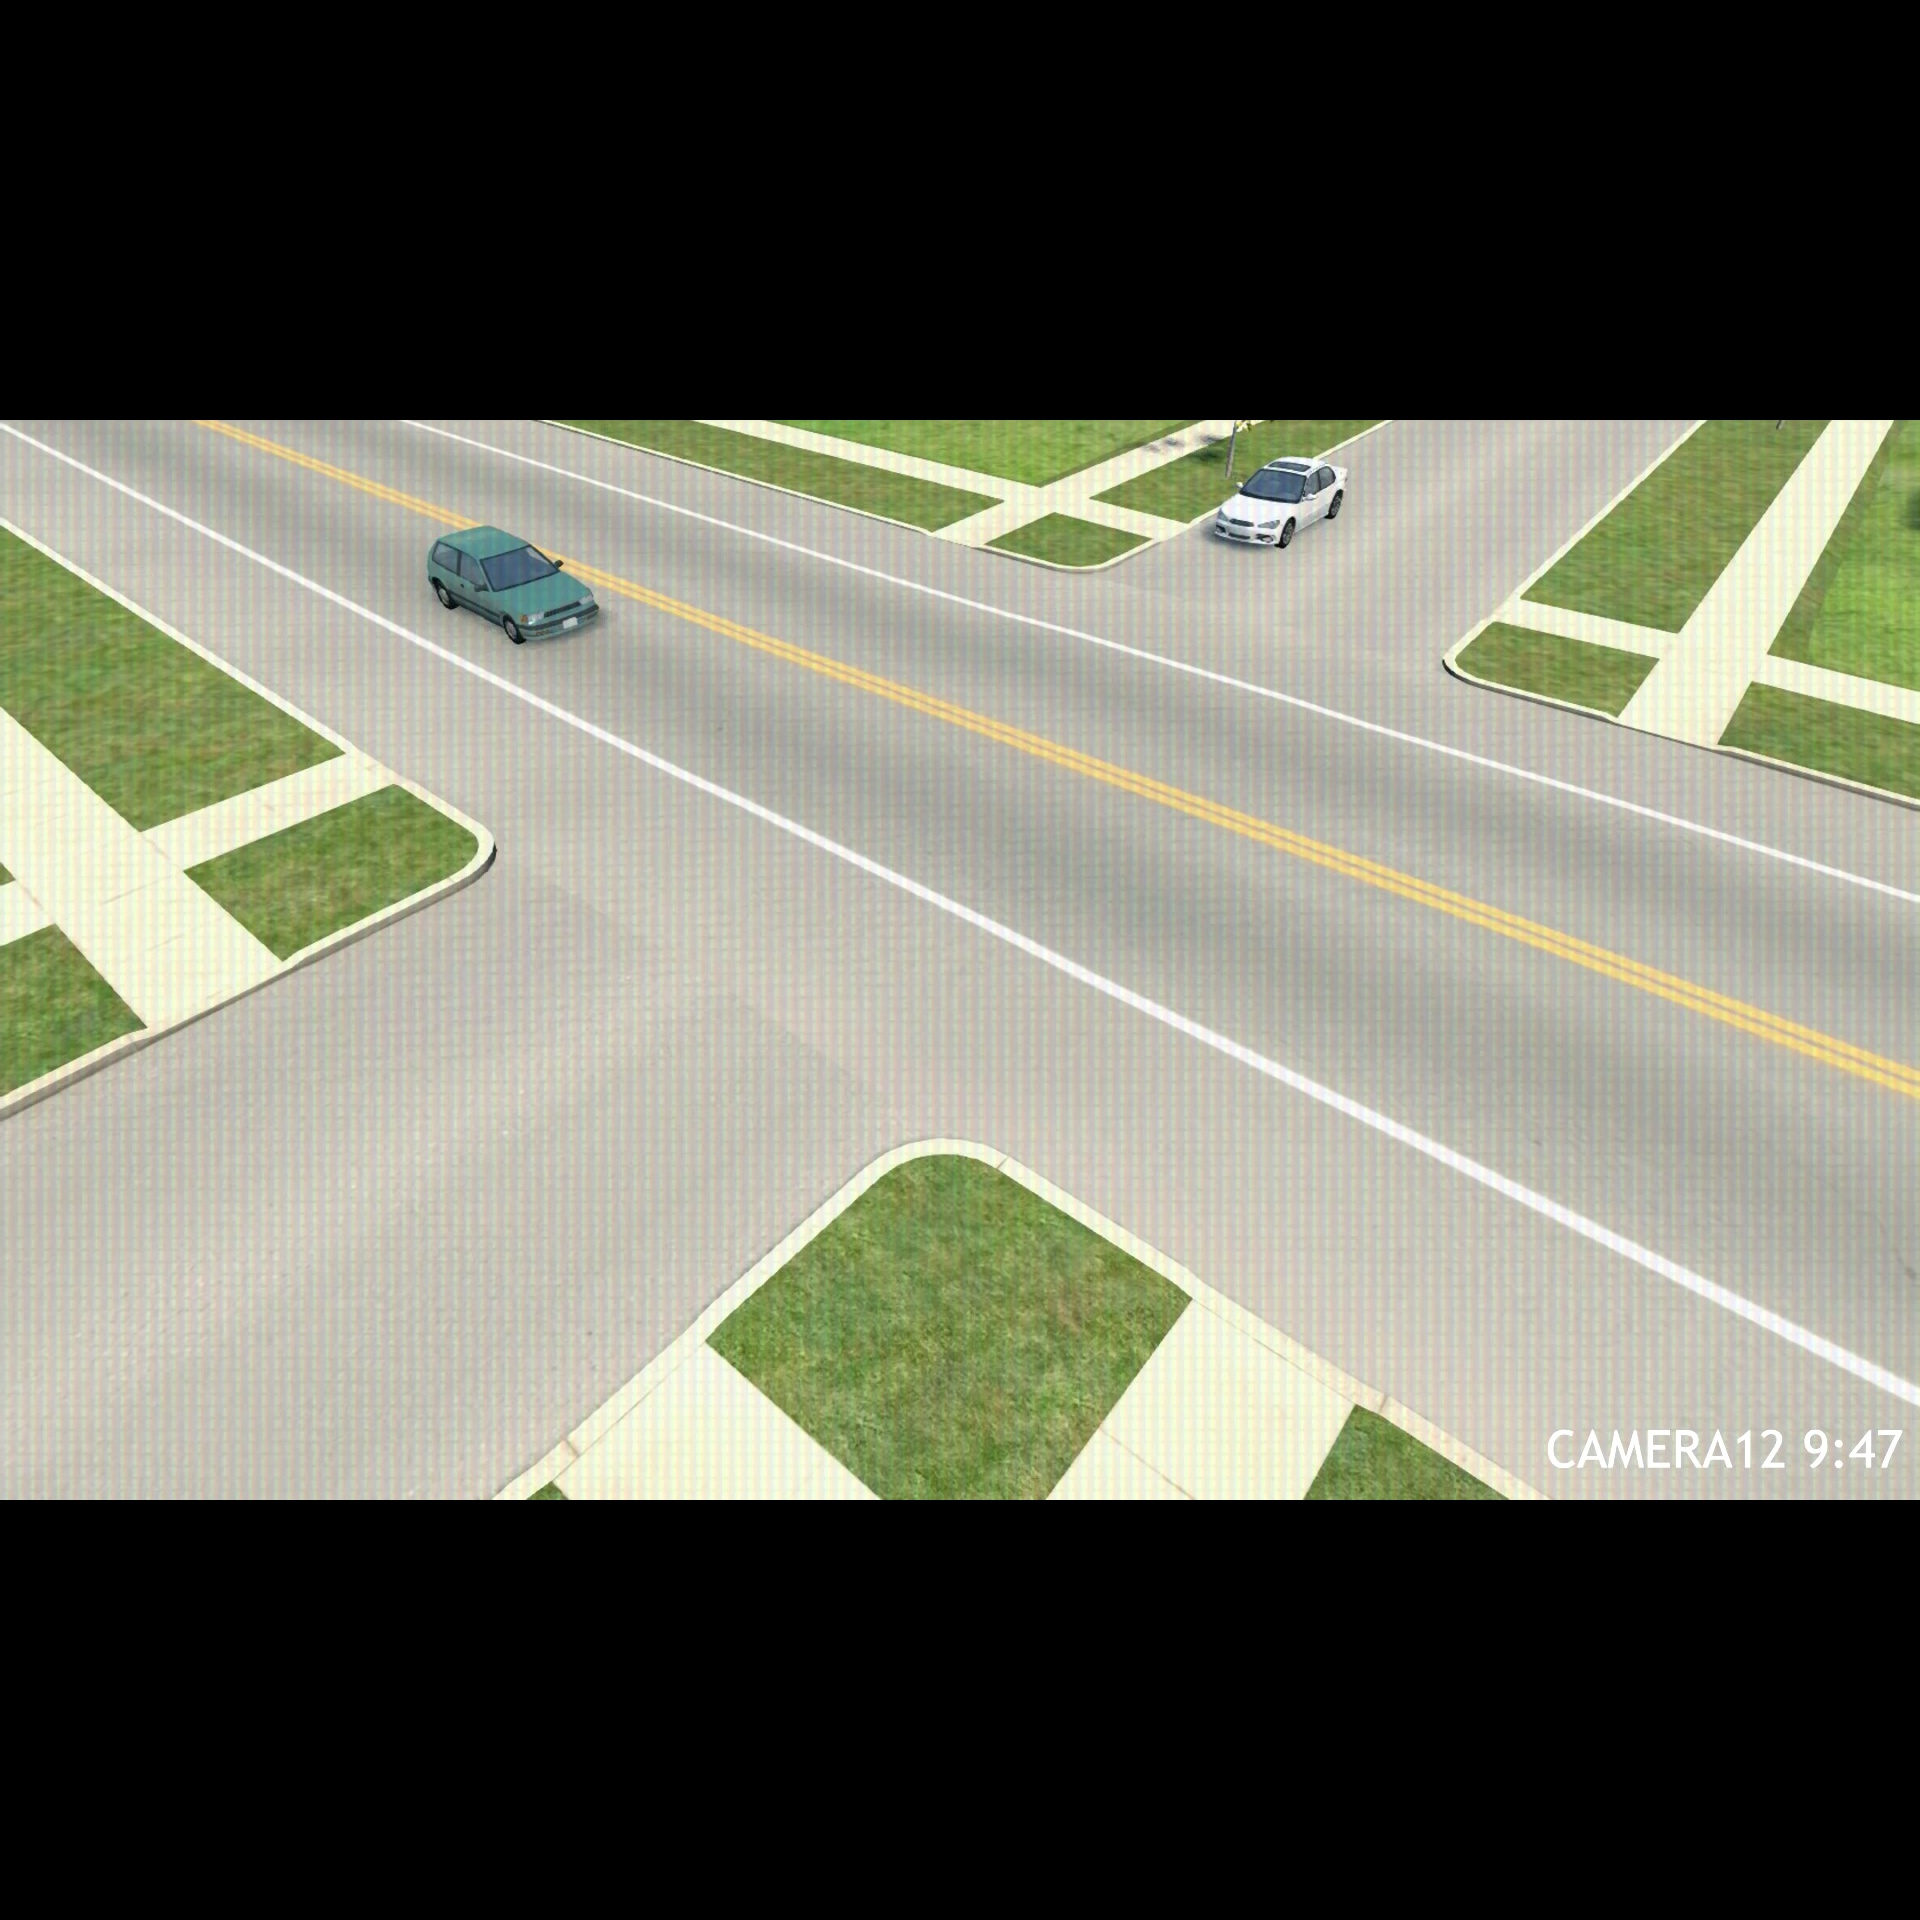vehicle: (424, 517, 608, 652), (1211, 455, 1357, 552)
